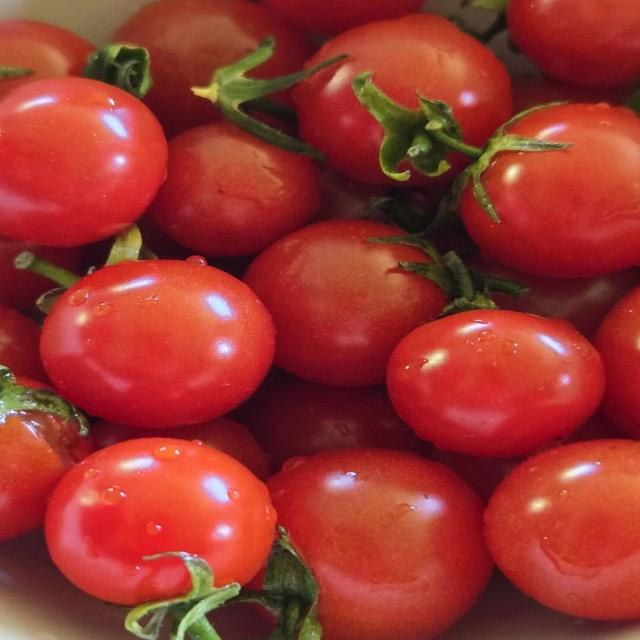tomato: (268, 449, 492, 639), (41, 260, 273, 427), (46, 438, 275, 604), (294, 14, 511, 184), (244, 220, 446, 386), (387, 310, 604, 457), (461, 104, 639, 277), (0, 78, 166, 246), (486, 440, 639, 619), (114, 0, 313, 137), (149, 122, 319, 256), (239, 373, 430, 469), (466, 256, 639, 338), (0, 402, 93, 540), (507, 0, 639, 87), (92, 417, 271, 480), (0, 20, 94, 99), (594, 288, 639, 439), (0, 236, 83, 309), (265, 0, 423, 33), (513, 74, 632, 114), (0, 304, 46, 379)
